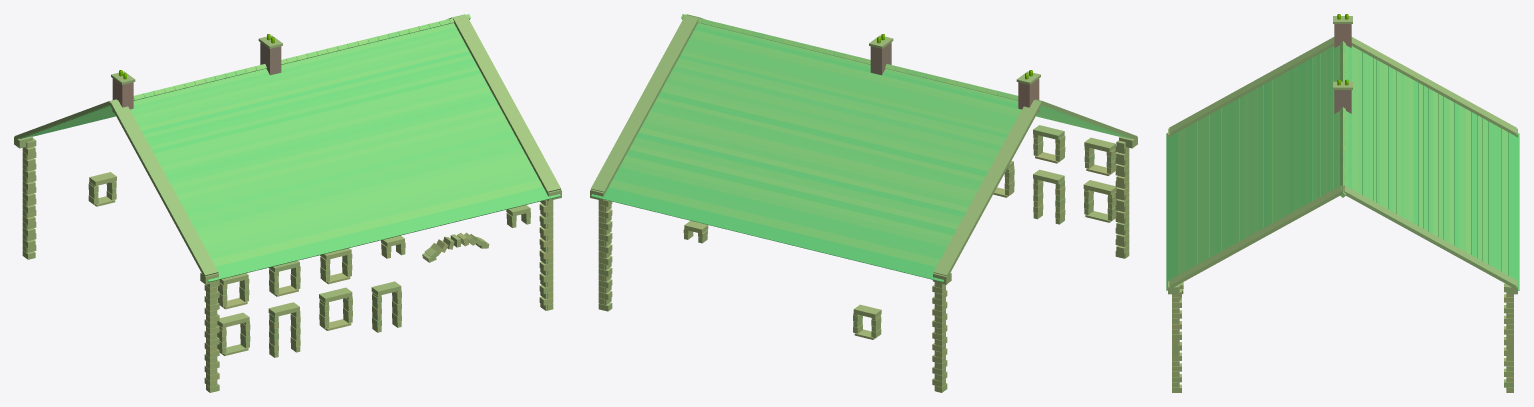
Rendered from SM_Bld_018_Stone.glb.
3 views of the same model, side by side, from view 1: azimuth 30°, elevation 25°; view 2: azimuth 150°, elevation 25°; view 3: azimuth 270°, elevation 25° (orthographic). The views are drawn at different scales.
Visible parts, largest first — view 1: SM_Bld_018_Stone; view 2: SM_Bld_018_Stone; view 3: SM_Bld_018_Stone.
Boxes of the visible parts, box(x1,y1,x2,y2) form: SM_Bld_018_Stone: box(14, 14, 561, 392); SM_Bld_018_Stone: box(590, 14, 1137, 392); SM_Bld_018_Stone: box(1166, 14, 1519, 392).
Bounding box in the file's own units: 19.4 × 12.92 × 18.11.
